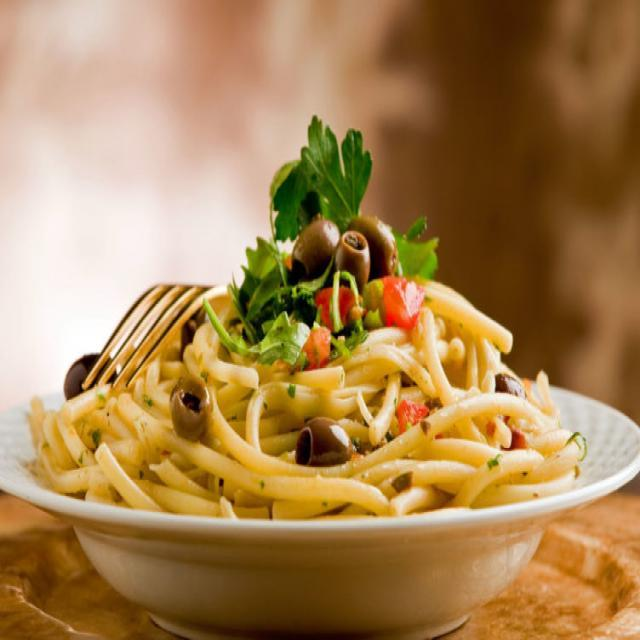Oil pasta: (81, 114, 577, 623)
